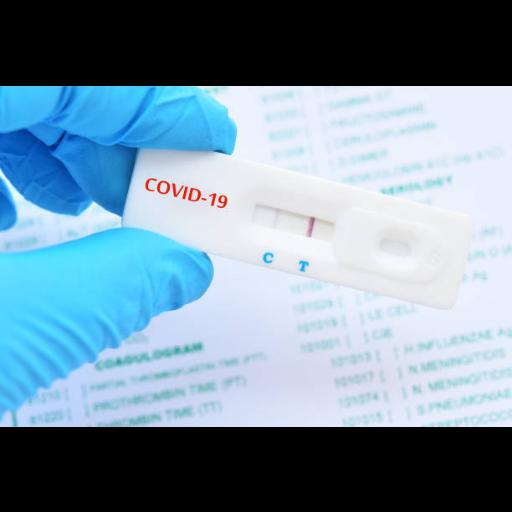Pos: (121, 136, 473, 310)
